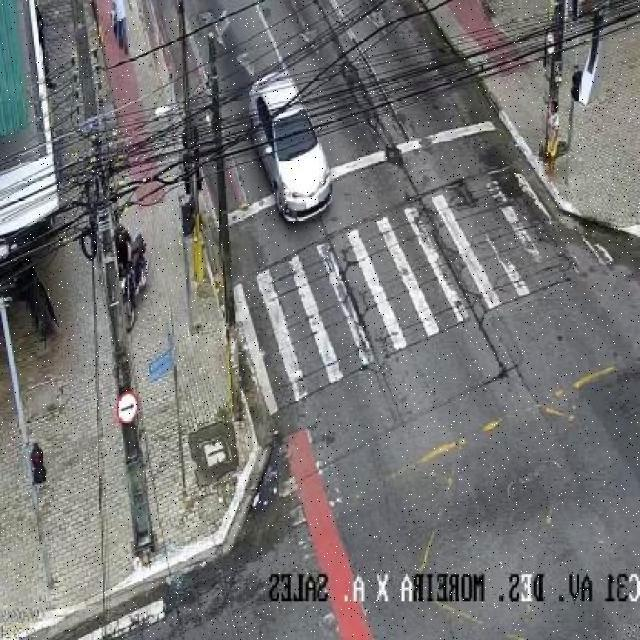Car: (250, 70, 338, 230)
